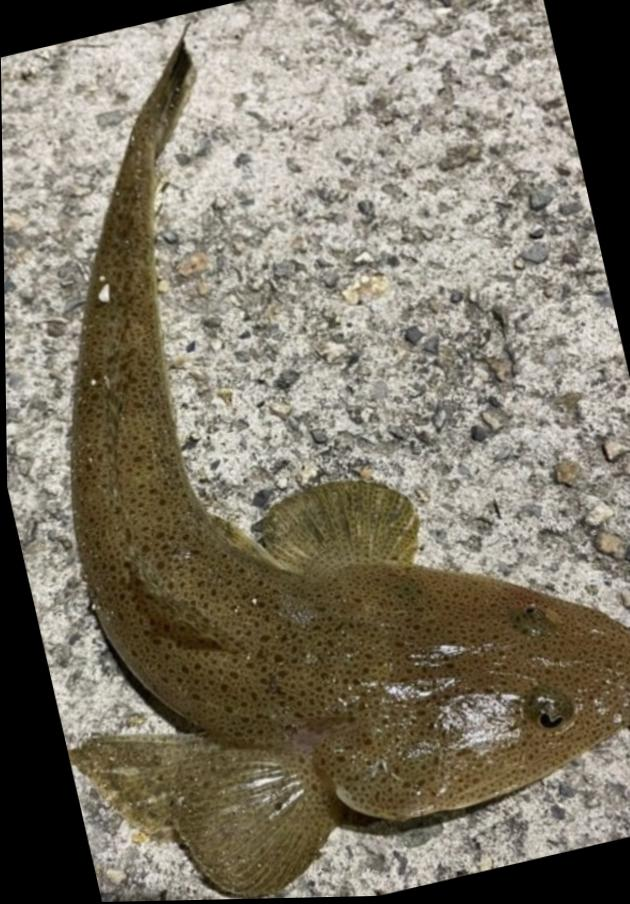fish: (66, 41, 630, 900)
